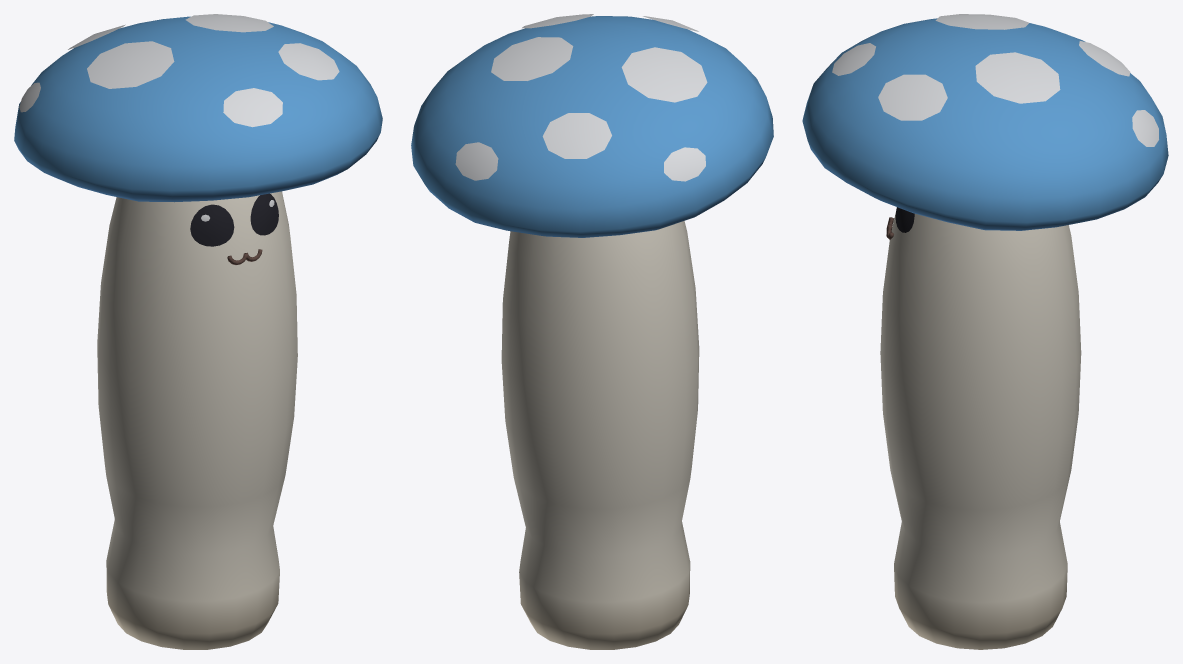
File: Slimeshroom_Tree.glb
3 renders of one model, left to right at view 1: azimuth 30°, elevation 25°; view 2: azimuth 150°, elevation 25°; view 3: azimuth 270°, elevation 25°, orthographic.
Visible parts, largest first — view 1: Slimeshroom_Tree; view 2: Slimeshroom_Tree; view 3: Slimeshroom_Tree.
Part boxes in pixels (x1,y1,x2,y2): Slimeshroom_Tree: (14, 14, 382, 649); Slimeshroom_Tree: (411, 14, 773, 649); Slimeshroom_Tree: (802, 14, 1168, 649).
Bounding box in the file's own units: 1.32 × 2.3 × 1.31.
